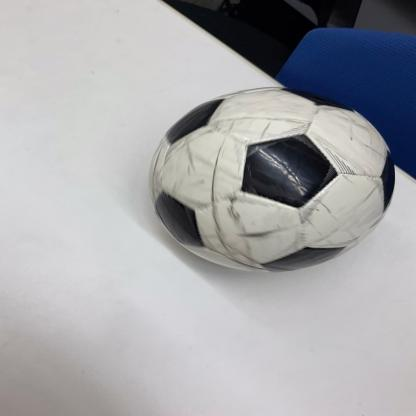ball: (152, 86, 395, 276)
